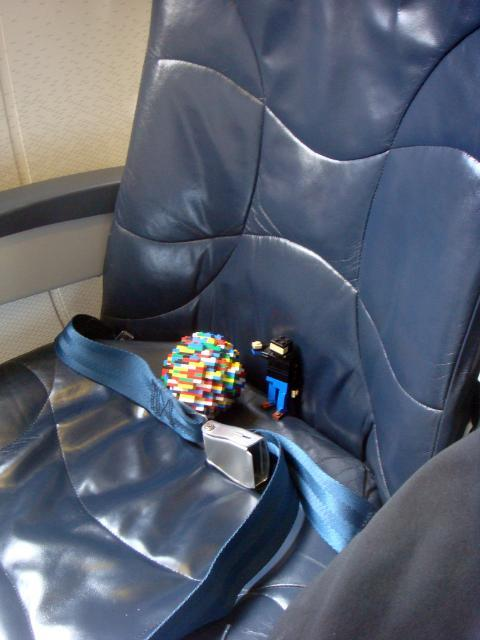Seatbelt: (51, 308, 377, 640)
